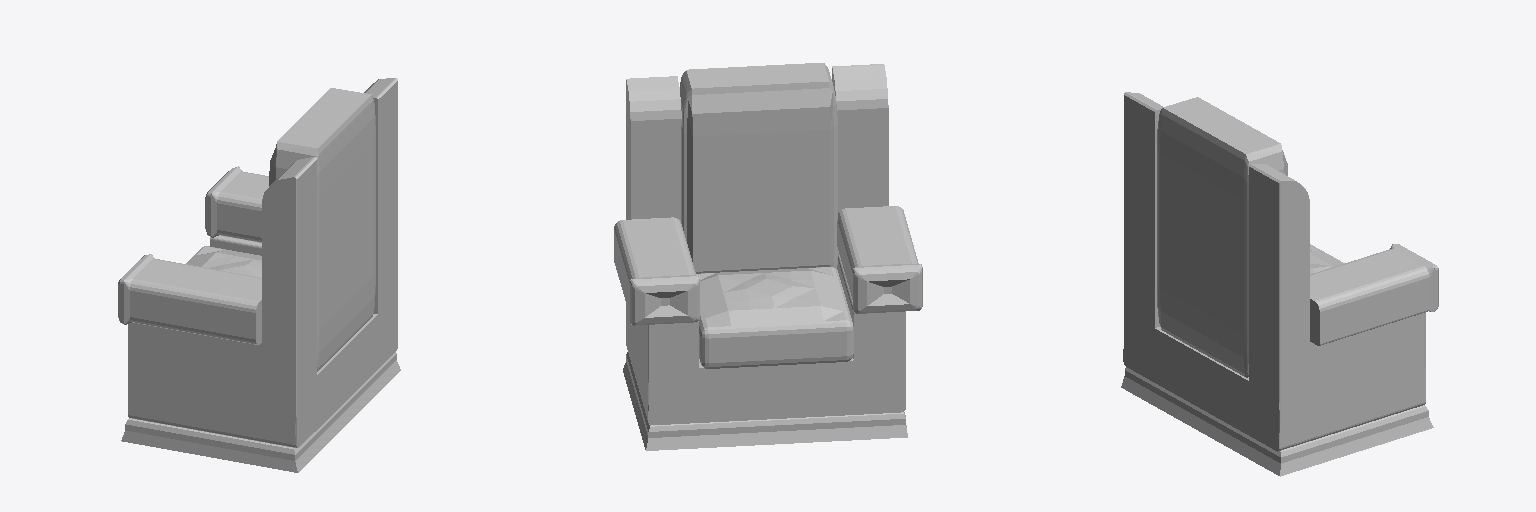
File: sillon1.obj
The picture shows the model from 3 angles: view 1: azimuth 30°, elevation 25°; view 2: azimuth 150°, elevation 25°; view 3: azimuth 270°, elevation 25°; orthographic projection.
Parts seen in each view (by area): view 1: sillon1:pasted__pCube1; view 2: sillon1:pasted__pCube1; view 3: sillon1:pasted__pCube1.
Boxes of the visible parts, box(x1,y1,x2,y2) form: sillon1:pasted__pCube1: box(118, 78, 400, 472); sillon1:pasted__pCube1: box(614, 63, 922, 450); sillon1:pasted__pCube1: box(1121, 92, 1438, 476).
Bounding box in the file's own units: 1.24 × 1.22 × 1.18.